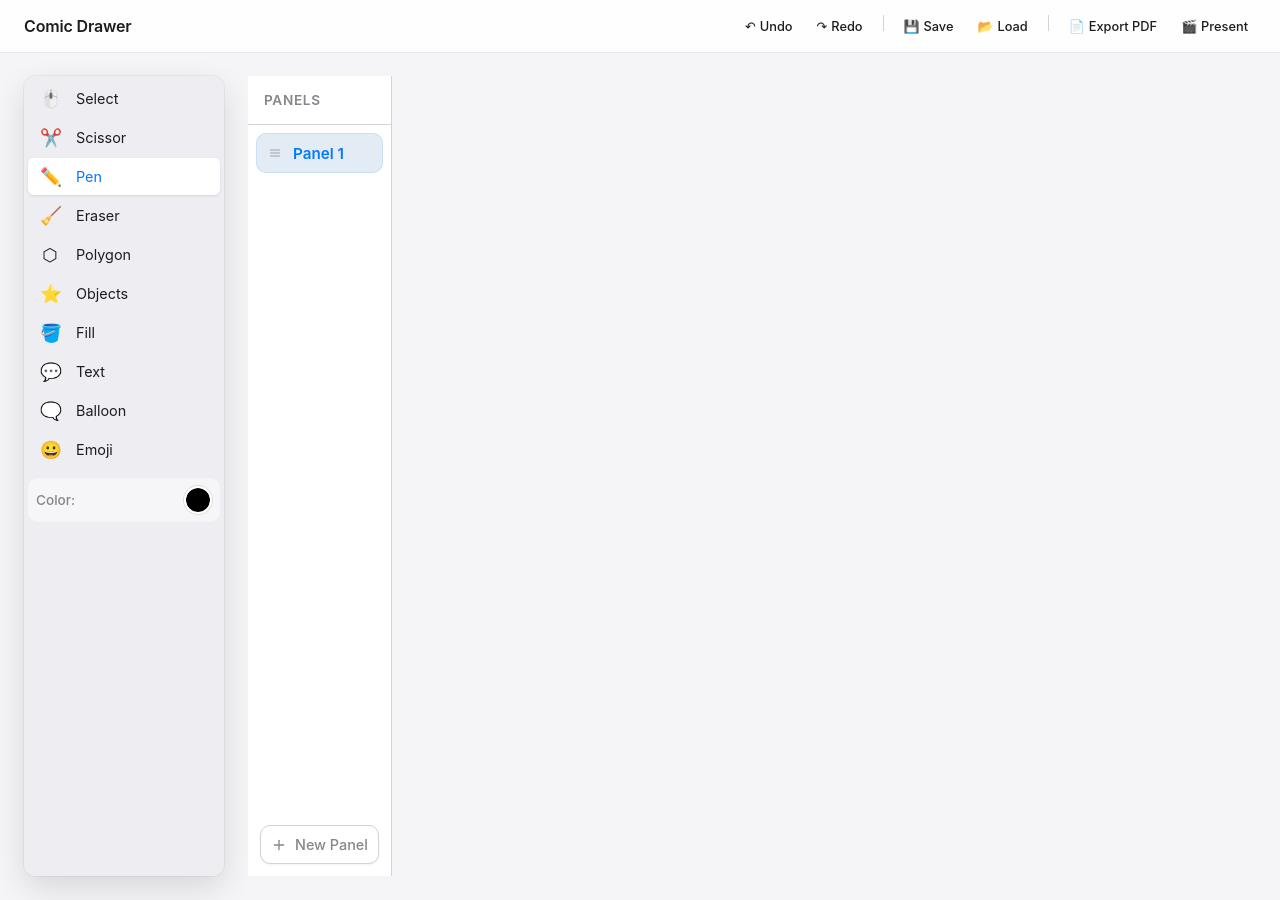
Scenario: App › adds a new panel when add panel is clicked
Step 1. Click the button "New Panel" → (320, 844), box [260,825,379,864]
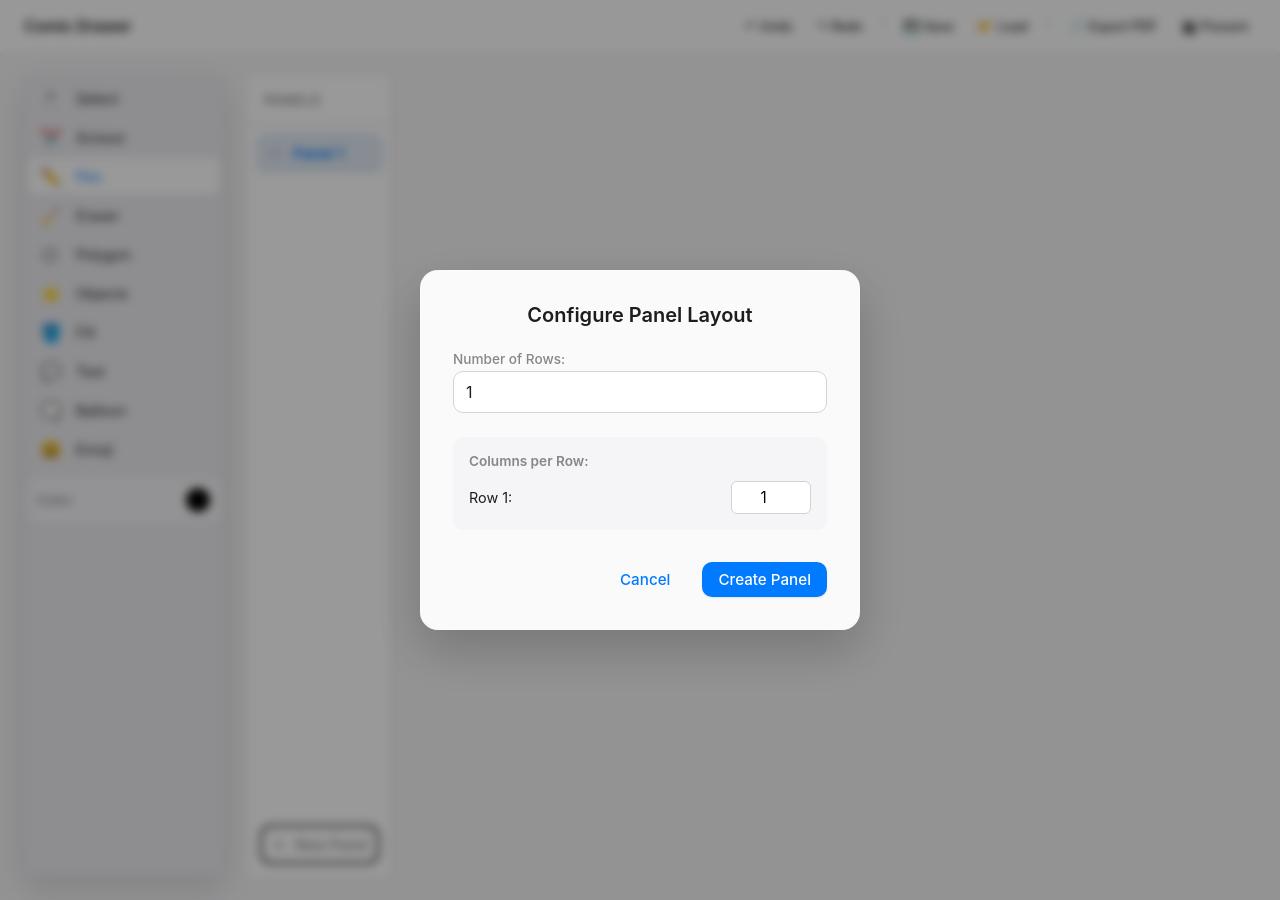
Check: the heading "Configure Panel Layout" is shown, box [527,303,753,327]
Step 2. Click the button "Create Panel" → (765, 580), box [702,562,827,597]
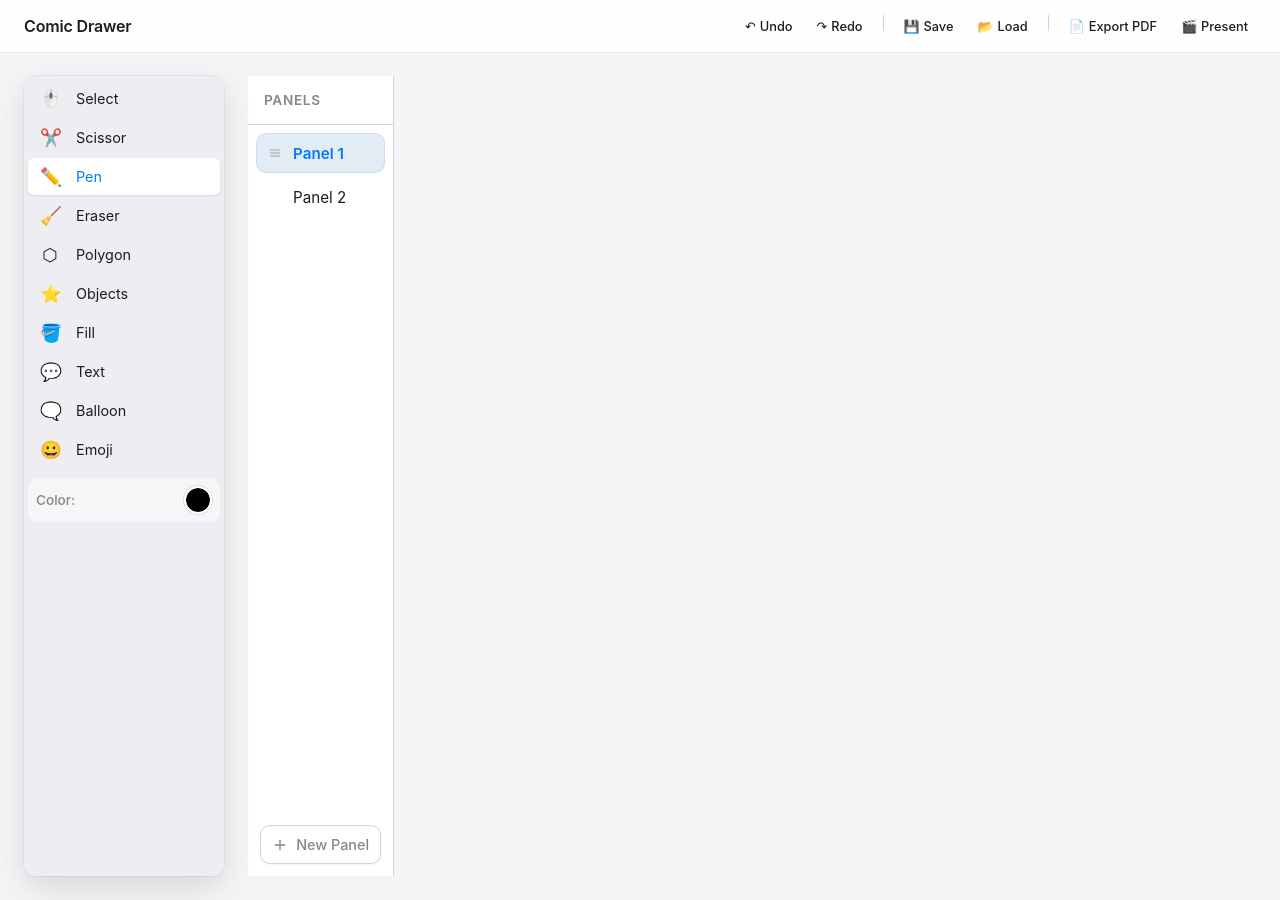
Check: the text "Panel 2" is shown, box [293,188,346,206]
